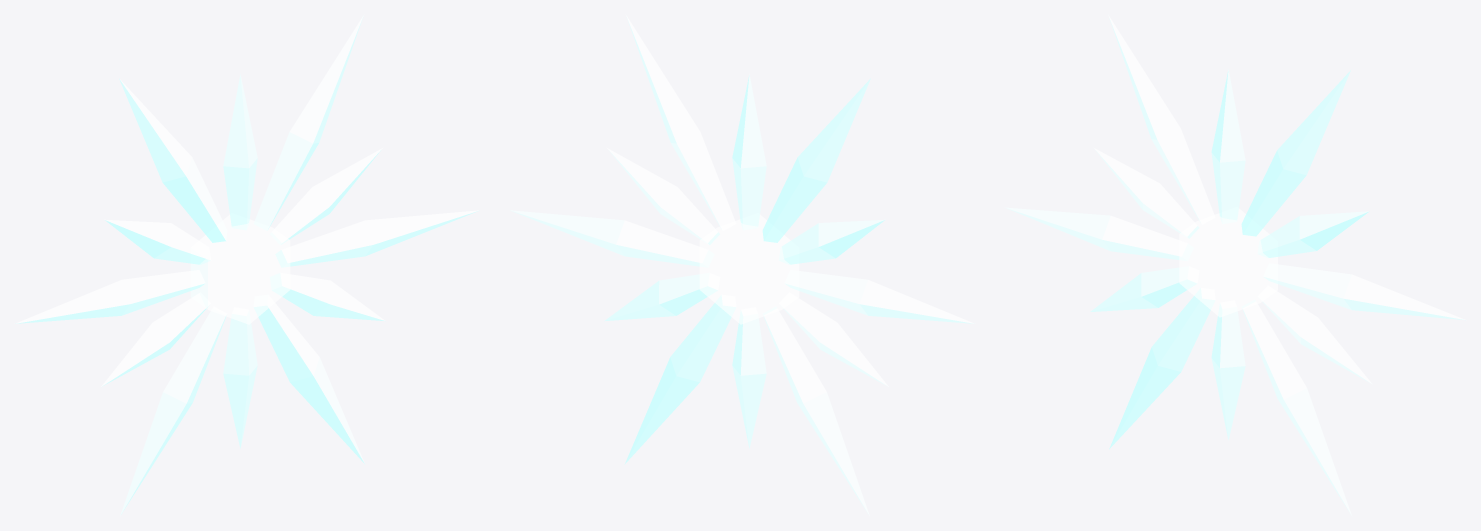
Rendered from VFX_07_金蛇精_金如意冰凌寒风.glb.
The picture shows the model from 3 angles, left to right: view 1: azimuth 30°, elevation 25°; view 2: azimuth 150°, elevation 25°; view 3: azimuth 330°, elevation 25°; orthographic projection.
Parts seen in each view (by area): view 1: Cylinder, IceSpike_10, IceSpike_2, IceSpike_4, IceSpike_0, IceSpike_8, IceSpike_6, IceSpike_3, IceSpike_9, IceSpike_11, IceSpike_1, IceSpike_7 (+1 smaller); view 2: Cylinder, IceSpike_10, IceSpike_2, IceSpike_4, IceSpike_0, IceSpike_8, IceSpike_6, IceSpike_3, IceSpike_9, IceSpike_11, IceSpike_1, IceSpike_7 (+1 smaller); view 3: Cylinder, IceSpike_10, IceSpike_2, IceSpike_4, IceSpike_0, IceSpike_8, IceSpike_6, IceSpike_3, IceSpike_9, IceSpike_11, IceSpike_1, IceSpike_7 (+1 smaller).
Part boxes in pixels (x1=…): Cylinder: x1=190, y1=213, x2=290, y2=324; IceSpike_10: x1=254, y1=295, x2=365, y2=464; IceSpike_2: x1=253, y1=15, x2=363, y2=230; IceSpike_4: x1=119, y1=78, x2=227, y2=242; IceSpike_0: x1=275, y1=210, x2=479, y2=267; IceSpike_8: x1=120, y1=307, x2=226, y2=515; IceSpike_6: x1=15, y1=270, x2=205, y2=323; IceSpike_3: x1=223, y1=74, x2=257, y2=229; IceSpike_9: x1=223, y1=307, x2=257, y2=448; IceSpike_11: x1=270, y1=273, x2=385, y2=321; IceSpike_1: x1=270, y1=148, x2=382, y2=244; IceSpike_7: x1=101, y1=292, x2=210, y2=386; Cylinder: x1=699, y1=213, x2=799, y2=324; IceSpike_10: x1=624, y1=295, x2=735, y2=464; IceSpike_2: x1=626, y1=15, x2=736, y2=230; IceSpike_4: x1=762, y1=78, x2=870, y2=242; IceSpike_0: x1=510, y1=210, x2=714, y2=267; IceSpike_8: x1=763, y1=307, x2=869, y2=515; IceSpike_6: x1=784, y1=270, x2=974, y2=323; IceSpike_3: x1=732, y1=74, x2=766, y2=229; IceSpike_9: x1=732, y1=307, x2=766, y2=448; IceSpike_11: x1=604, y1=273, x2=719, y2=321; IceSpike_1: x1=607, y1=148, x2=719, y2=244; IceSpike_7: x1=779, y1=292, x2=888, y2=386; Cylinder: x1=1179, y1=207, x2=1277, y2=317; IceSpike_10: x1=1242, y1=300, x2=1351, y2=515; IceSpike_2: x1=1241, y1=70, x2=1350, y2=236; IceSpike_4: x1=1108, y1=14, x2=1215, y2=224; IceSpike_0: x1=1263, y1=263, x2=1465, y2=320; IceSpike_8: x1=1109, y1=288, x2=1215, y2=449; IceSpike_6: x1=1005, y1=207, x2=1193, y2=260; IceSpike_3: x1=1211, y1=69, x2=1245, y2=223; IceSpike_9: x1=1211, y1=300, x2=1245, y2=440; IceSpike_11: x1=1258, y1=286, x2=1372, y2=384; IceSpike_1: x1=1258, y1=211, x2=1369, y2=257; IceSpike_7: x1=1090, y1=266, x2=1198, y2=311.
Bounding box in the file's own units: 4.33 × 4 × 0.28.
